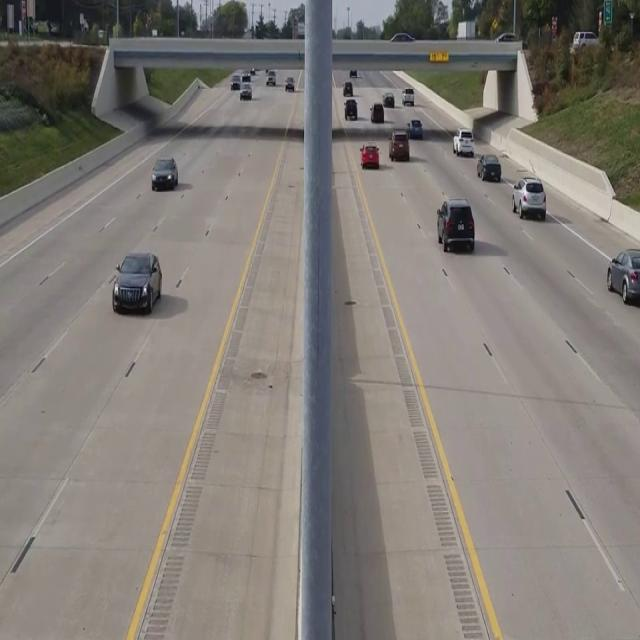car: (112, 251, 162, 314), (436, 199, 474, 253), (606, 248, 640, 308), (512, 177, 547, 219), (151, 158, 178, 190), (476, 153, 501, 181), (570, 30, 598, 52), (360, 144, 379, 167)
